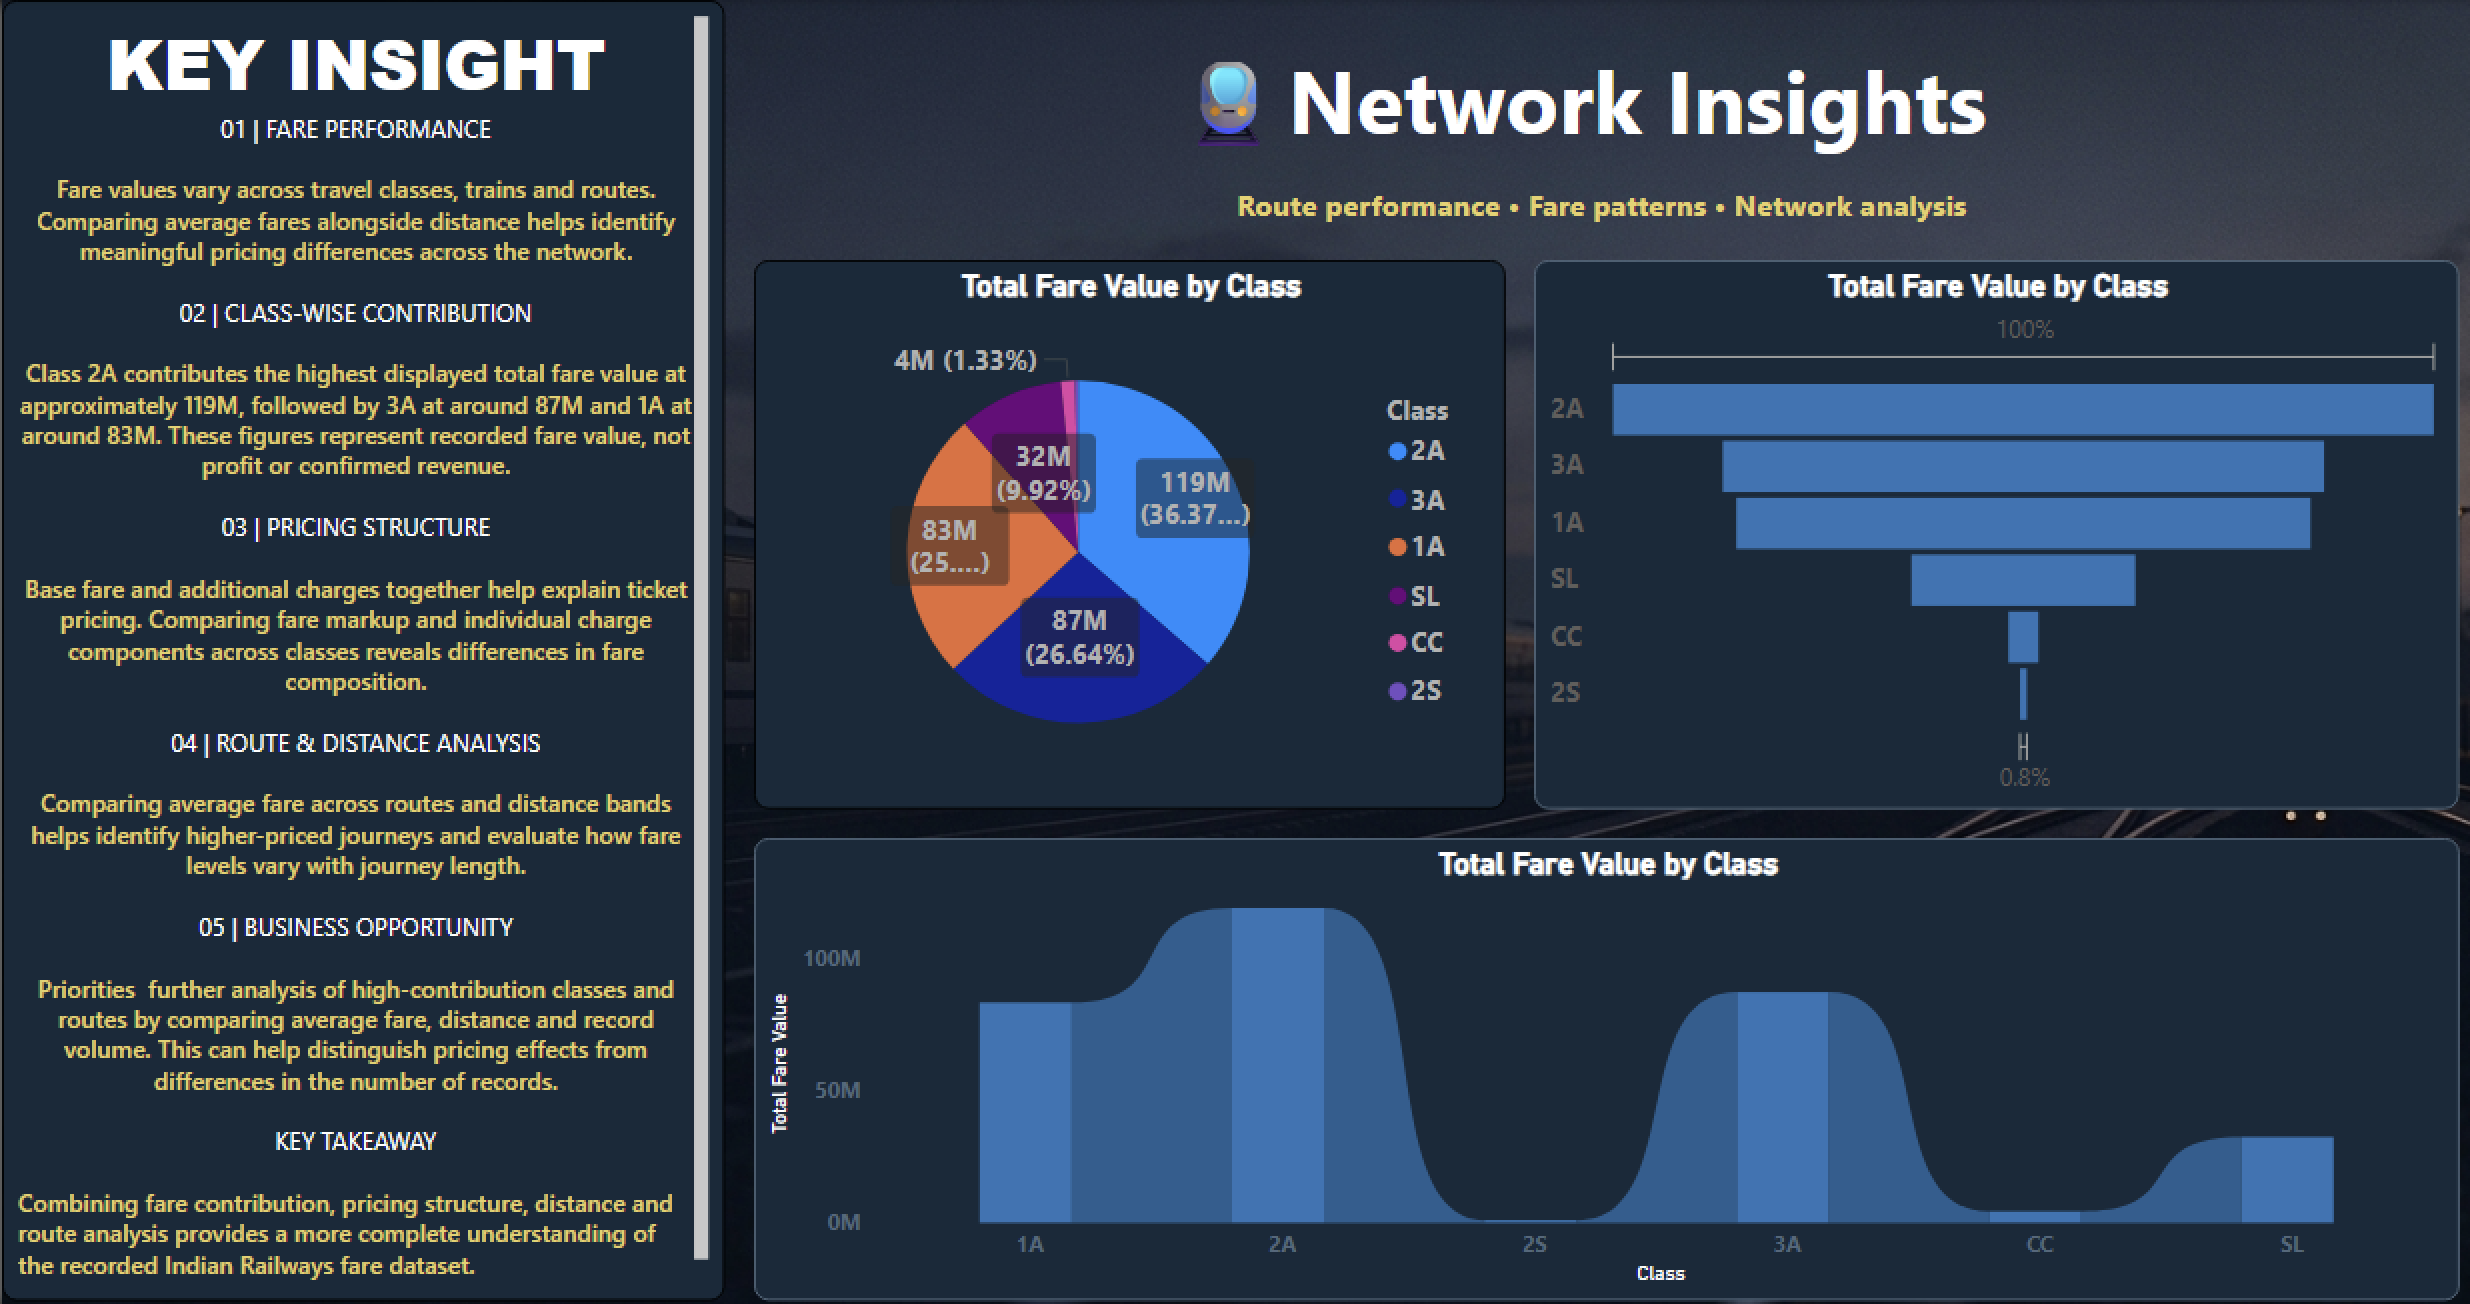

What the dashboard file says about the page in this screenshot:
{"tool":"powerbi","page":{"name":"🚆Network Insights","canvas":[1365,725],"ordinal":2},"visuals":[{"type":"ribbonChart","fields":{"Y":["FactFare.Total Fare Value"],"Category":["DimClass.Class","DimDate.Date.Variation.Date Hierarchy.Month","DimDate.Day"]},"box":[416,464,944,256],"z":0},{"type":"funnel","fields":{"Category":["DimClass.Class"],"Y":["FactFare.Total Fare Value"]},"box":[848,144,512,304],"z":1000},{"type":"pieChart","fields":{"Category":["DimClass.Class"],"Y":["FactFare.Total Fare Value"]},"box":[416,144,416,304],"z":2000},{"type":"textbox","box":[0,0,400,720],"z":3000},{"type":"textbox","box":[0,0,1360,144],"z":4000}]}

Visuals, with their boxes in screenshot pixels (x1, y1, x2, y2), scaled from the page's 1365x725 canvas onto the 2470x1304 screenshot:
ribbonChart - FactFare.Total Fare Value x DimClass.Class: pyautogui.locateOnScreen(753, 835, 2461, 1295)
funnel - DimClass.Class x FactFare.Total Fare Value: pyautogui.locateOnScreen(1534, 259, 2461, 806)
pieChart - DimClass.Class x FactFare.Total Fare Value: pyautogui.locateOnScreen(753, 259, 1506, 806)
textbox: pyautogui.locateOnScreen(0, 0, 724, 1295)
textbox: pyautogui.locateOnScreen(0, 0, 2461, 259)
